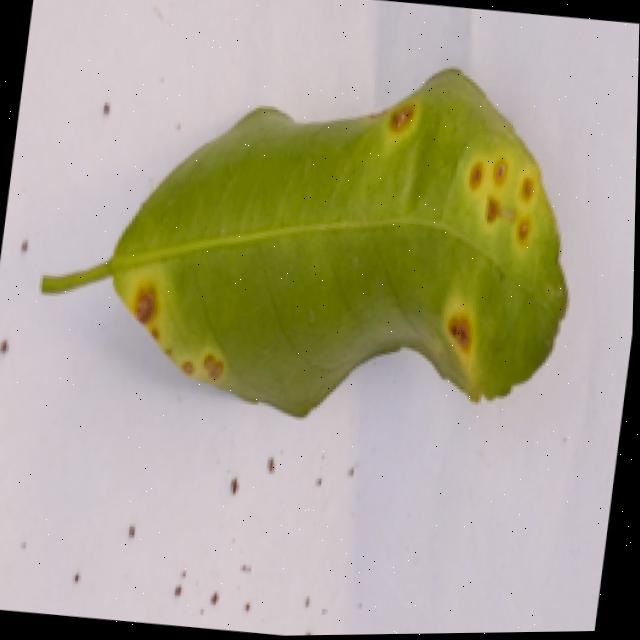canker: (40, 71, 564, 416), (100, 270, 233, 397), (425, 142, 578, 251), (420, 292, 501, 370), (373, 83, 436, 151)
